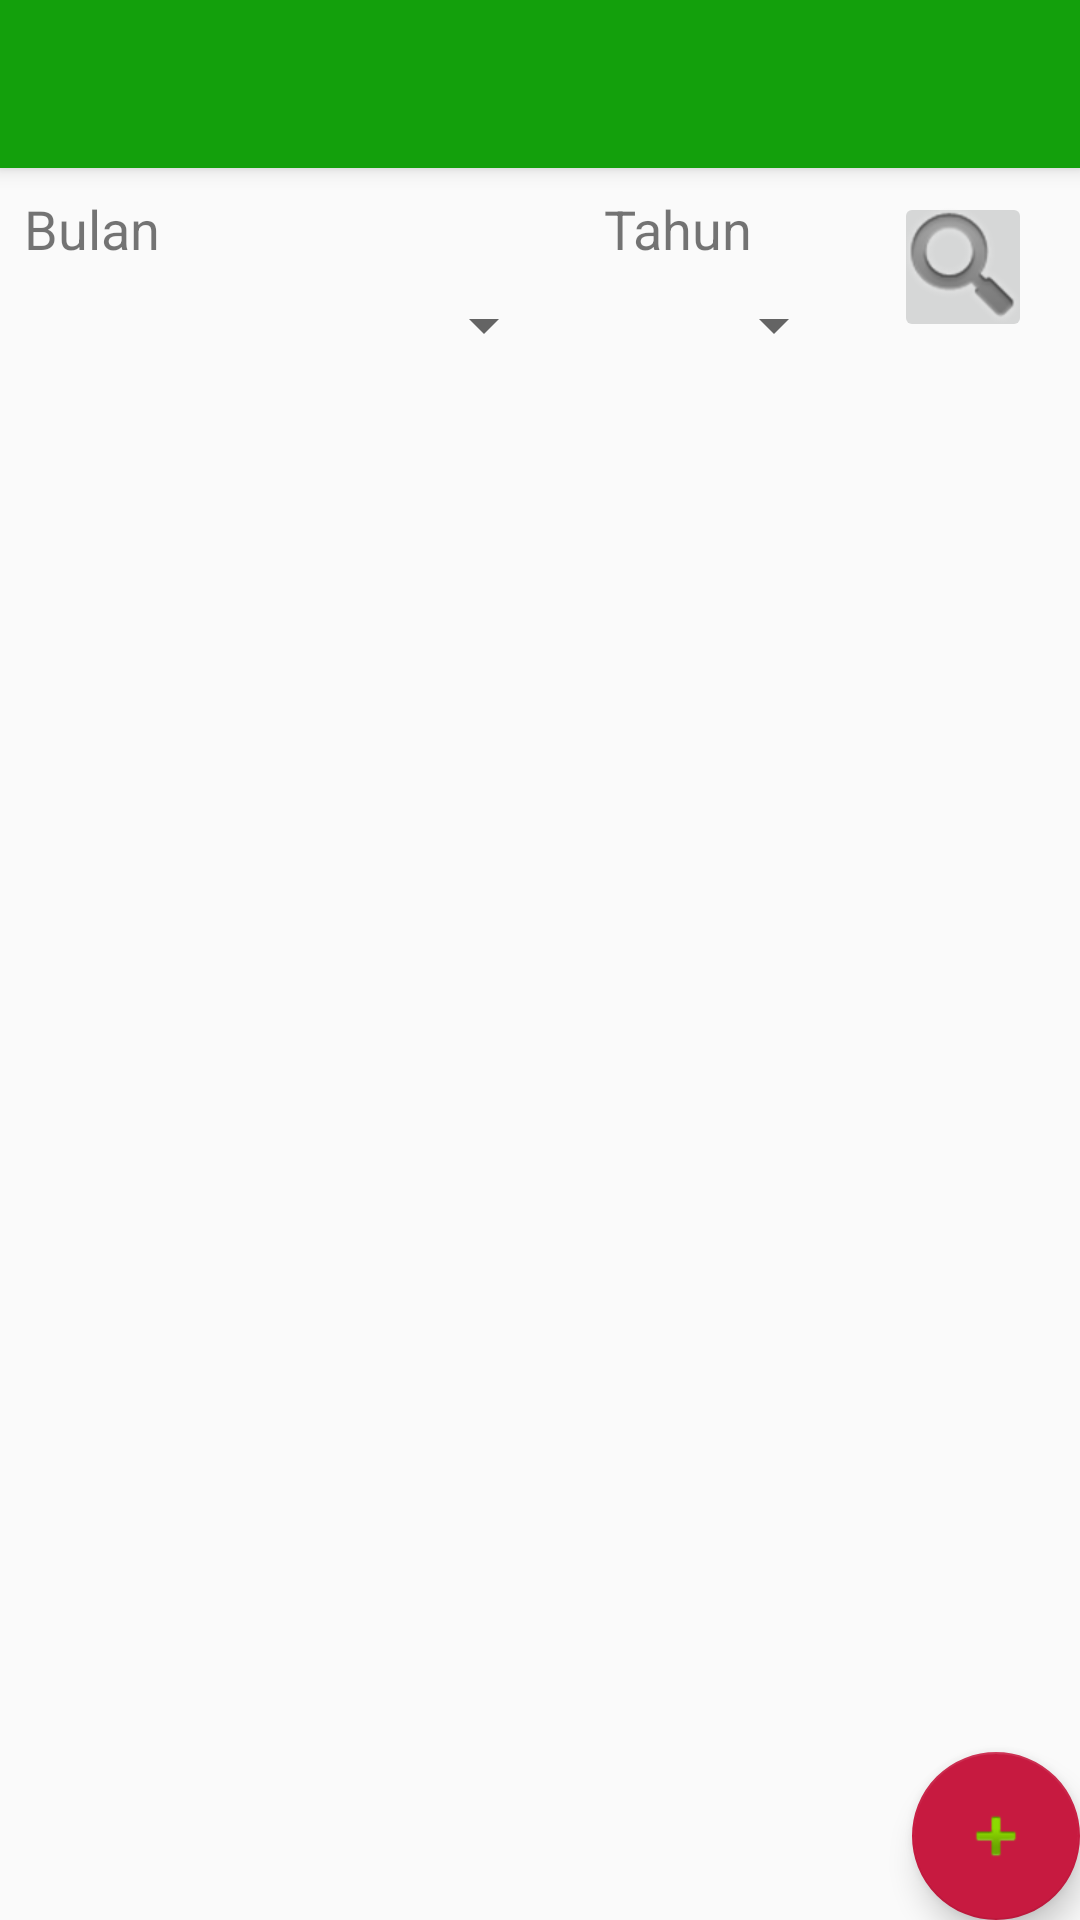

Icons on this 1080px×1920px Android screen, each with the point to tap as (x,y):
add: (996,1836)
search category: (963,267)
